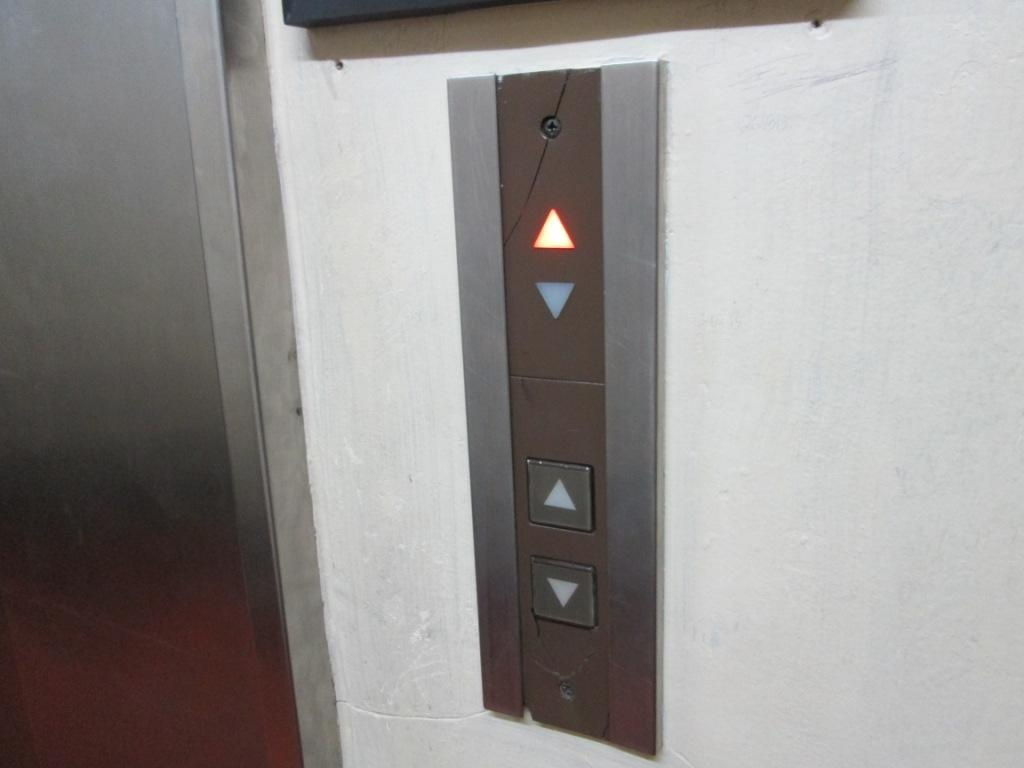down: (526, 547, 600, 632)
up: (520, 449, 597, 536)
